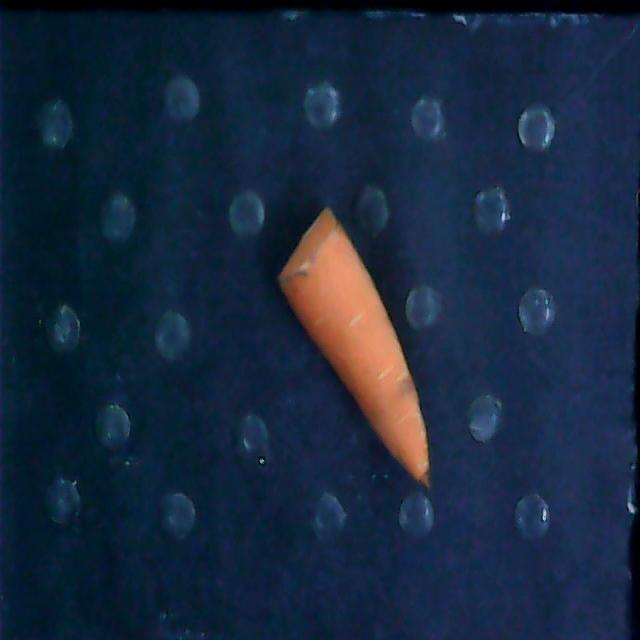-Kitchen waste - carrot-: (286, 207, 431, 488)
